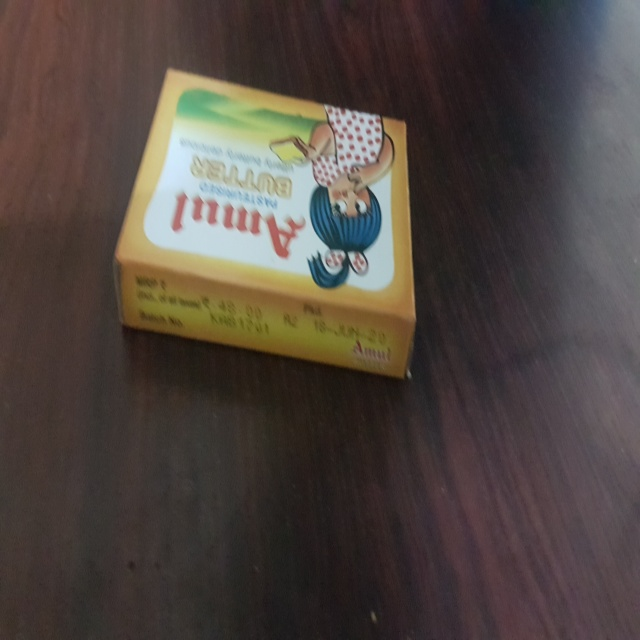butter: (111, 63, 435, 388)
